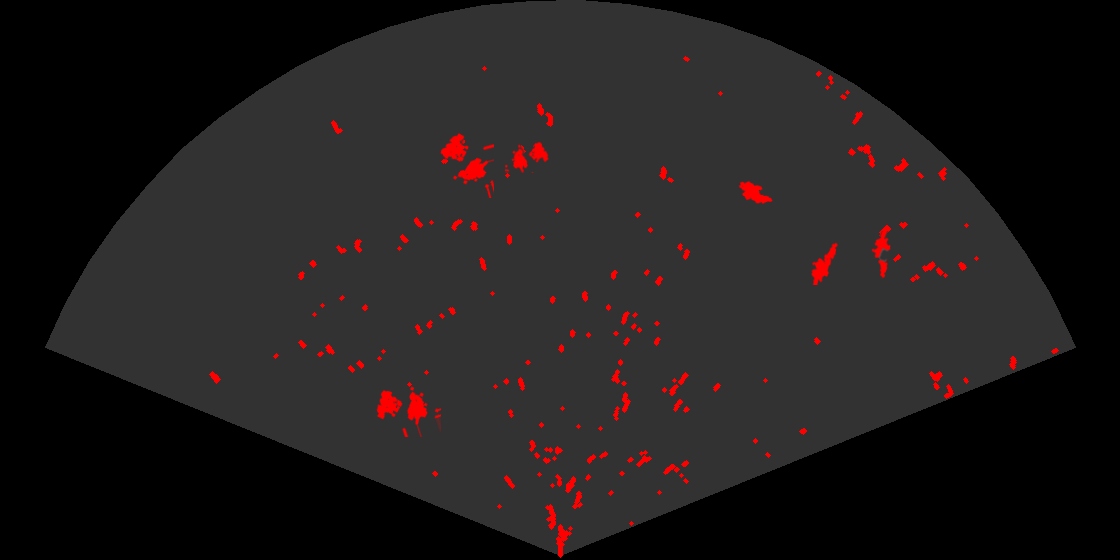AUV: (737, 179, 775, 205)
cage: (439, 131, 494, 198), (375, 385, 441, 437), (505, 140, 551, 173)
frogman: (810, 240, 839, 285), (870, 231, 892, 279)
